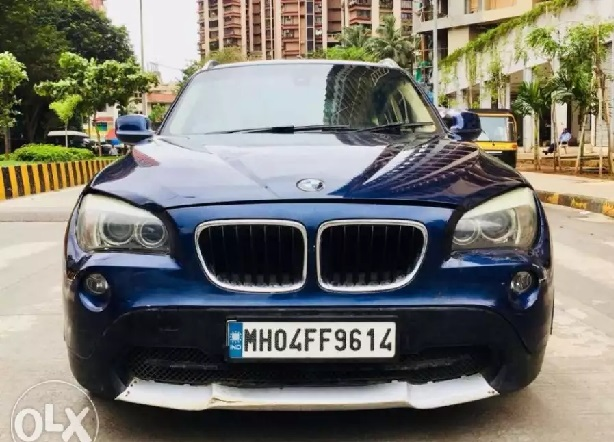licenseplate: (224, 319, 398, 361)
